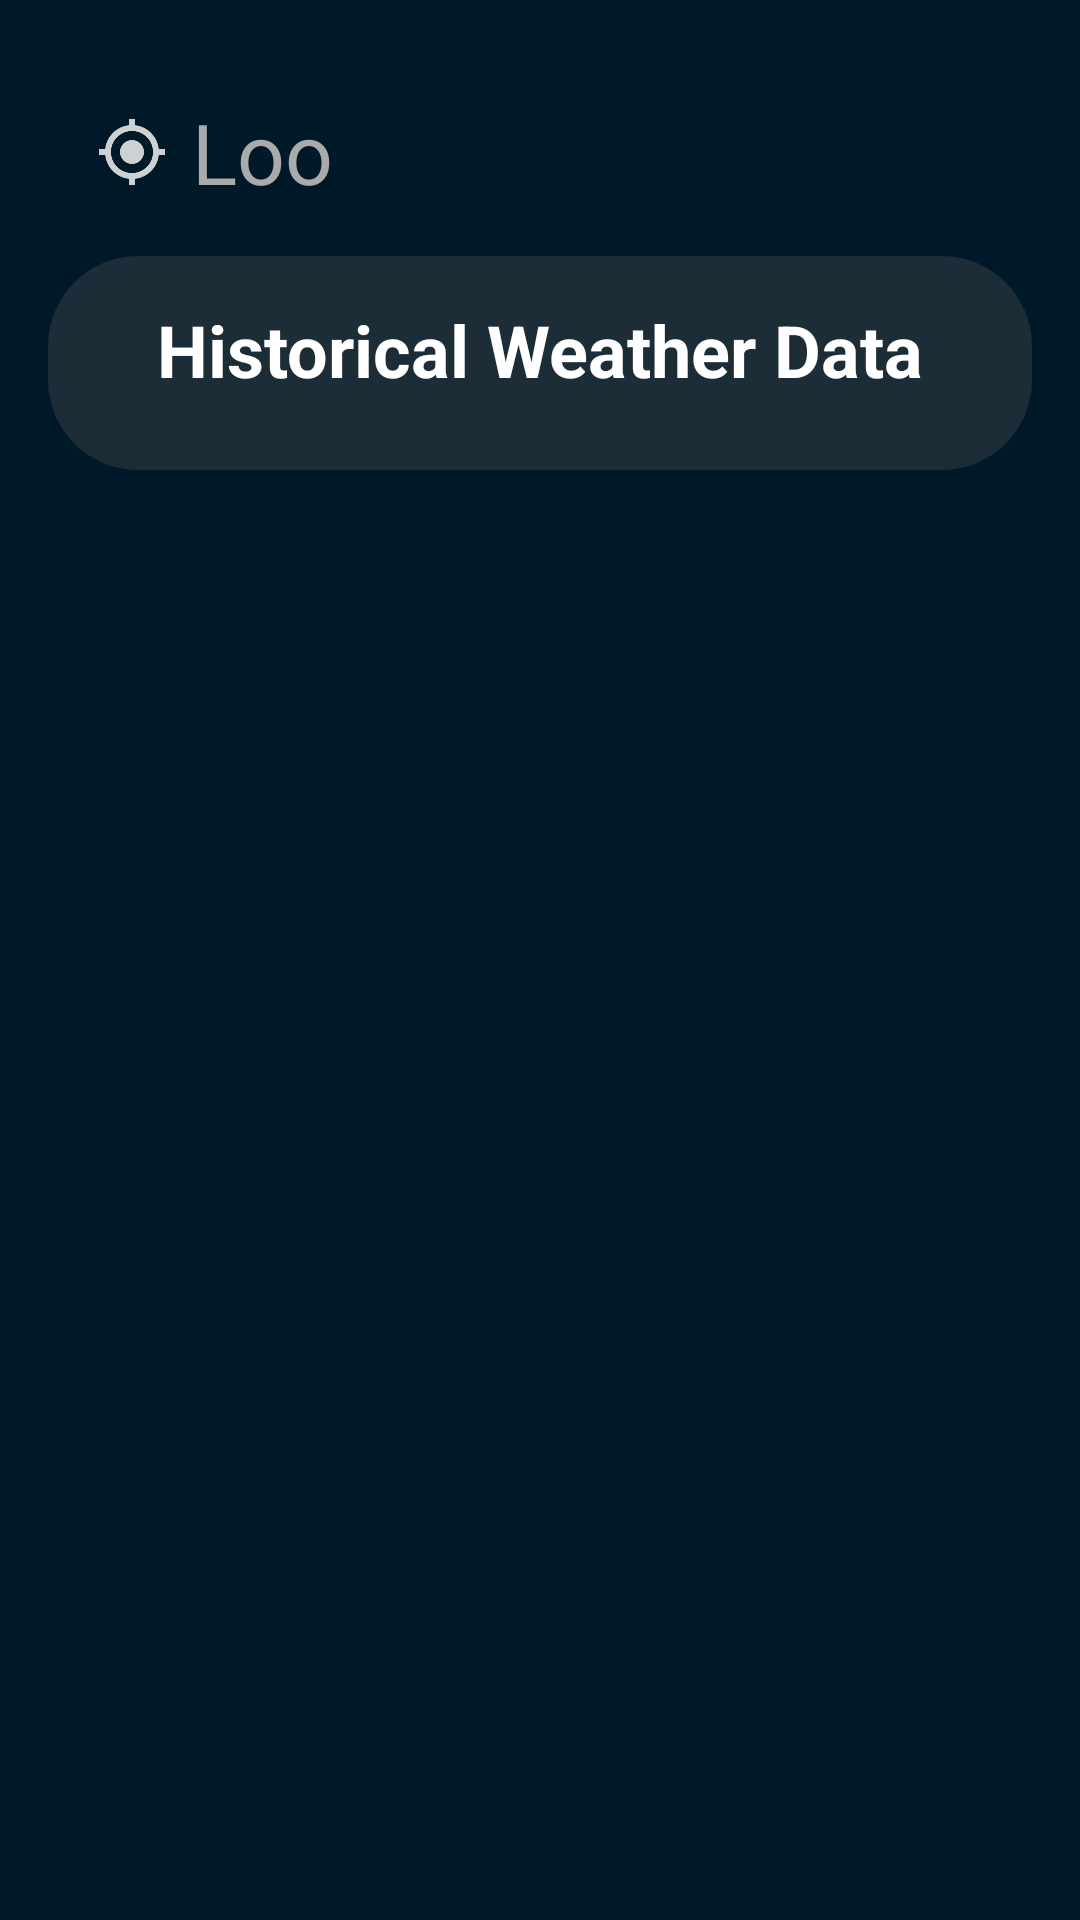

Icon click points for this 1080*1920 phone screenshot, format point (x, y):
Location Icon: point (132, 152)
